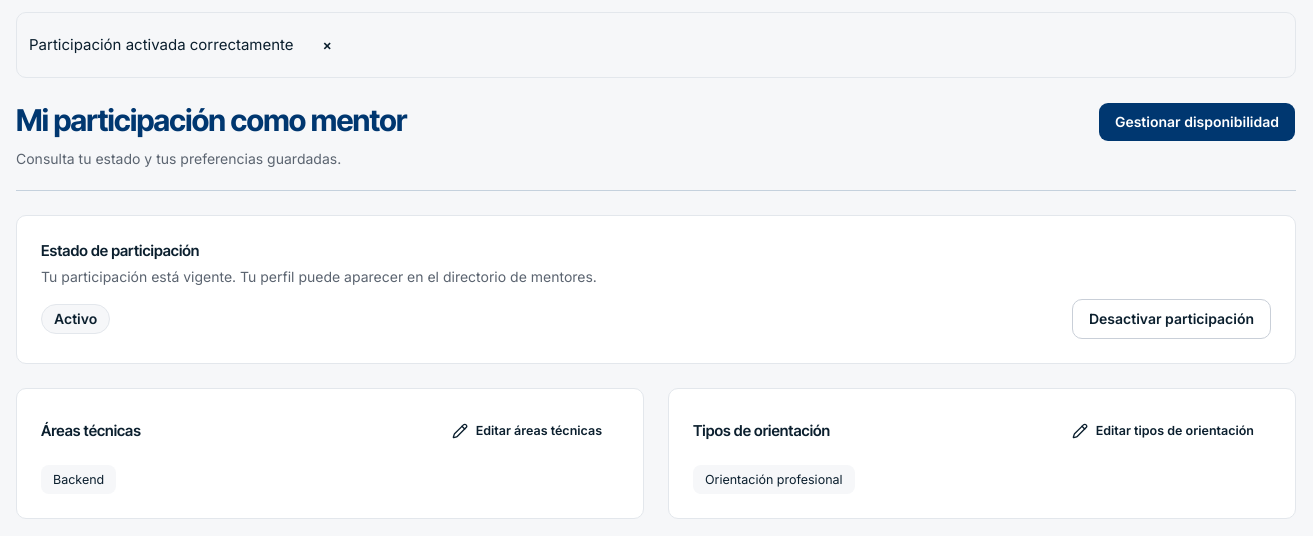
Test: ParticipationView HU-MEN-06 › muestra un éxito confirmado durante cuatro segundos y permite cerrarlo
Expected: the message shows "Participación activada correctamente", [29,35,294,54]
Click the button named "Cerrar notificación" at (327, 45), box [306,25,349,65]
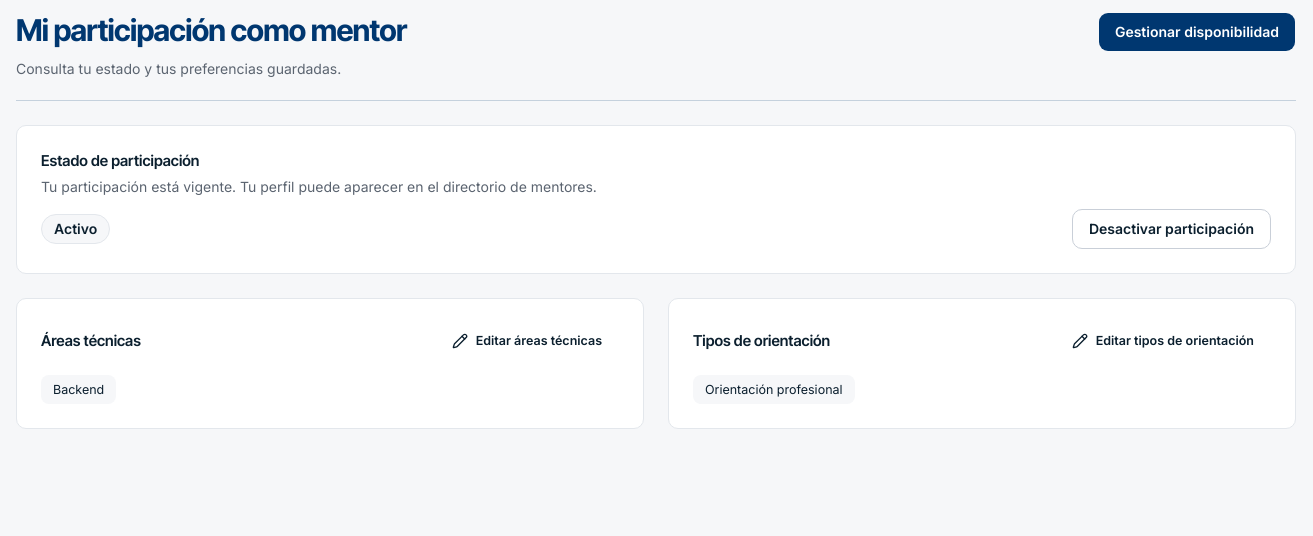
Expected: the message "Participación activada correctamente ×" is gone
